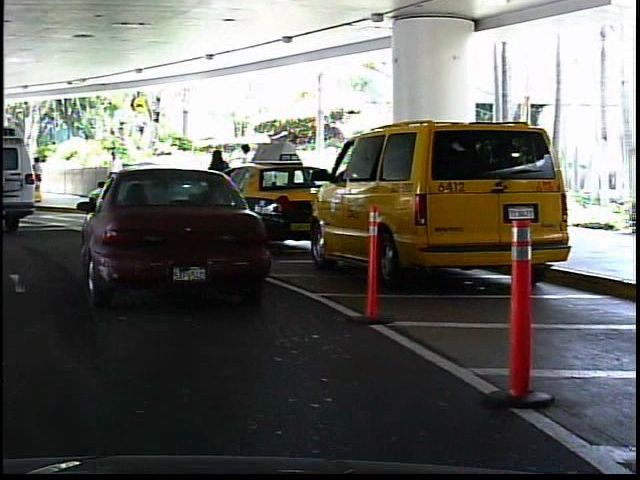person: (203, 141, 236, 209), (238, 139, 265, 210), (103, 145, 127, 204), (28, 154, 49, 199)
